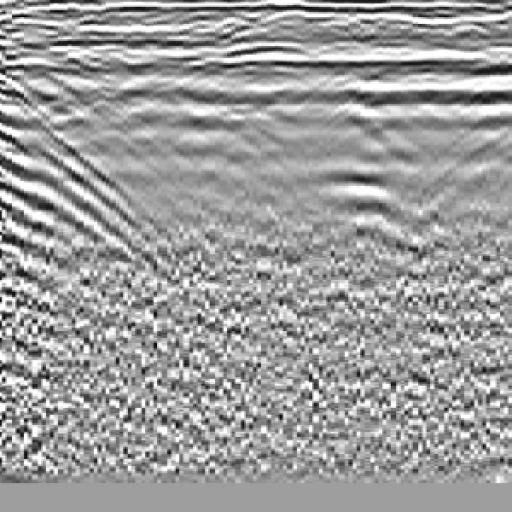metalic: (269, 42, 446, 331)
nonmetalic: (1, 57, 177, 294)
